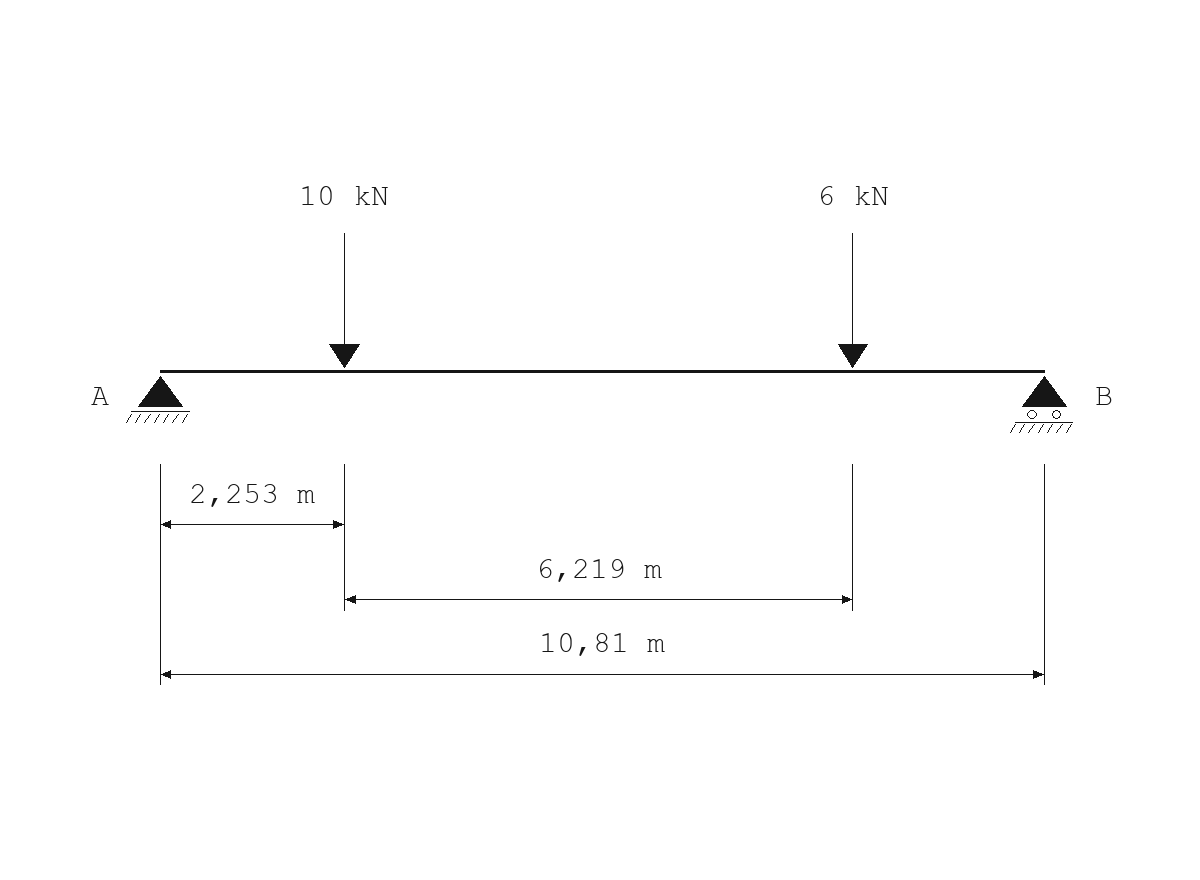pin_support: (126, 376, 190, 423)
point_load: (329, 233, 360, 368), (838, 233, 868, 368)
roller_support: (1010, 376, 1073, 433)
